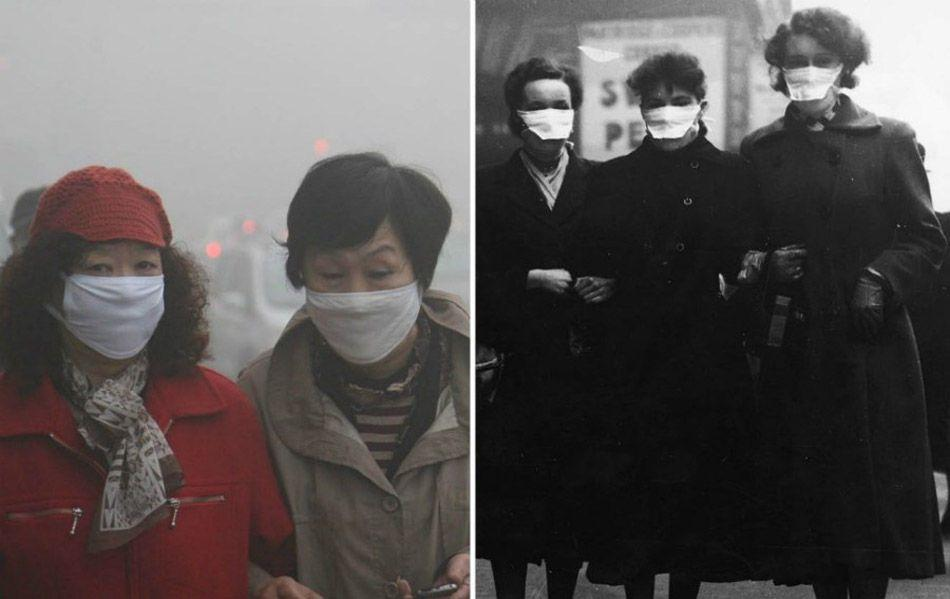OK: (306, 248, 419, 367), (62, 243, 165, 361)
WRONG: (787, 52, 847, 112), (644, 90, 700, 152), (524, 92, 573, 160)
